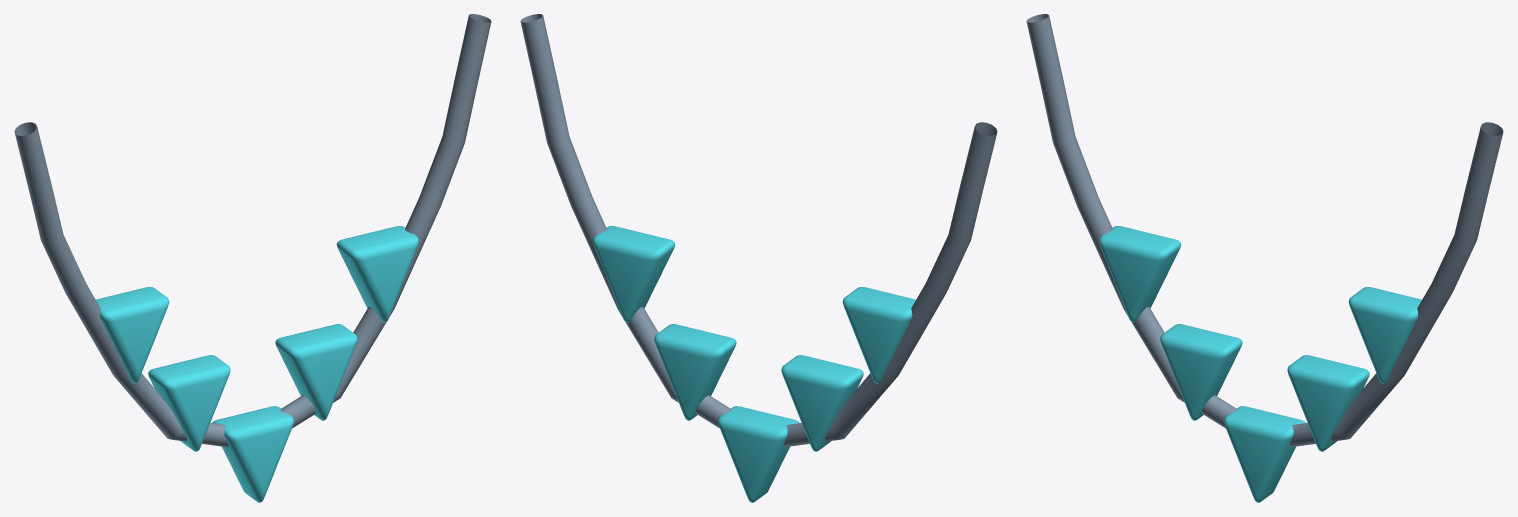
File: necklace_v4.glb
3 renders of one model, left to right at view 1: azimuth 30°, elevation 25°; view 2: azimuth 150°, elevation 25°; view 3: azimuth 330°, elevation 25°, orthographic.
Visible parts, largest first — view 1: BIB_CHAIN_PRIMARY, BIB_PLATE_ACCENT.004, BIB_PLATE_ACCENT.003, BIB_PLATE_ACCENT.002, BIB_PLATE_ACCENT.001, BIB_PLATE_ACCENT; view 2: BIB_CHAIN_PRIMARY, BIB_PLATE_ACCENT.004, BIB_PLATE_ACCENT.003, BIB_PLATE_ACCENT.002, BIB_PLATE_ACCENT.001, BIB_PLATE_ACCENT; view 3: BIB_CHAIN_PRIMARY, BIB_PLATE_ACCENT, BIB_PLATE_ACCENT.001, BIB_PLATE_ACCENT.002, BIB_PLATE_ACCENT.003, BIB_PLATE_ACCENT.004.
Boxes of the visible parts, bbox=[...] form: BIB_CHAIN_PRIMARY: bbox=[14, 14, 491, 447]; BIB_PLATE_ACCENT.004: bbox=[336, 226, 418, 322]; BIB_PLATE_ACCENT.003: bbox=[275, 324, 357, 420]; BIB_PLATE_ACCENT.002: bbox=[212, 406, 294, 502]; BIB_PLATE_ACCENT.001: bbox=[148, 355, 230, 451]; BIB_PLATE_ACCENT: bbox=[96, 287, 169, 383]; BIB_CHAIN_PRIMARY: bbox=[520, 14, 997, 447]; BIB_PLATE_ACCENT.004: bbox=[593, 226, 675, 322]; BIB_PLATE_ACCENT.003: bbox=[654, 324, 736, 420]; BIB_PLATE_ACCENT.002: bbox=[717, 406, 799, 502]; BIB_PLATE_ACCENT.001: bbox=[781, 355, 863, 451]; BIB_PLATE_ACCENT: bbox=[842, 287, 915, 383]; BIB_CHAIN_PRIMARY: bbox=[1026, 14, 1503, 447]; BIB_PLATE_ACCENT: bbox=[1099, 226, 1181, 322]; BIB_PLATE_ACCENT.001: bbox=[1160, 324, 1242, 420]; BIB_PLATE_ACCENT.002: bbox=[1223, 406, 1305, 502]; BIB_PLATE_ACCENT.003: bbox=[1287, 355, 1369, 451]; BIB_PLATE_ACCENT.004: bbox=[1348, 287, 1421, 383].
Bounding box in the file's own units: 2.09 × 1.8 × 0.17.
